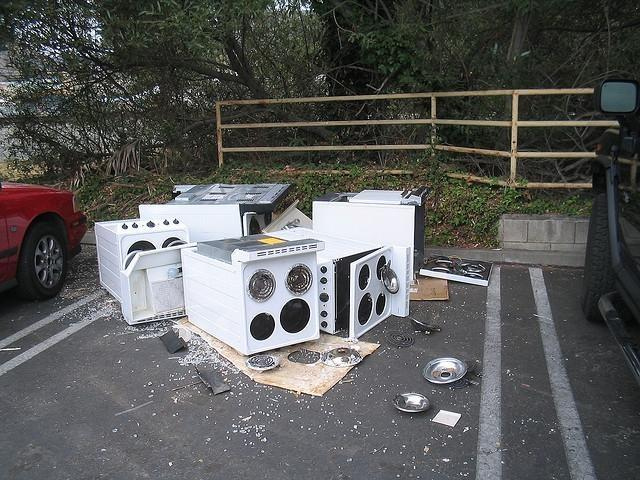car: (579, 80, 640, 384), (0, 183, 89, 303)
